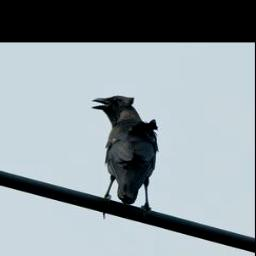Crow: (92, 91, 159, 221)
